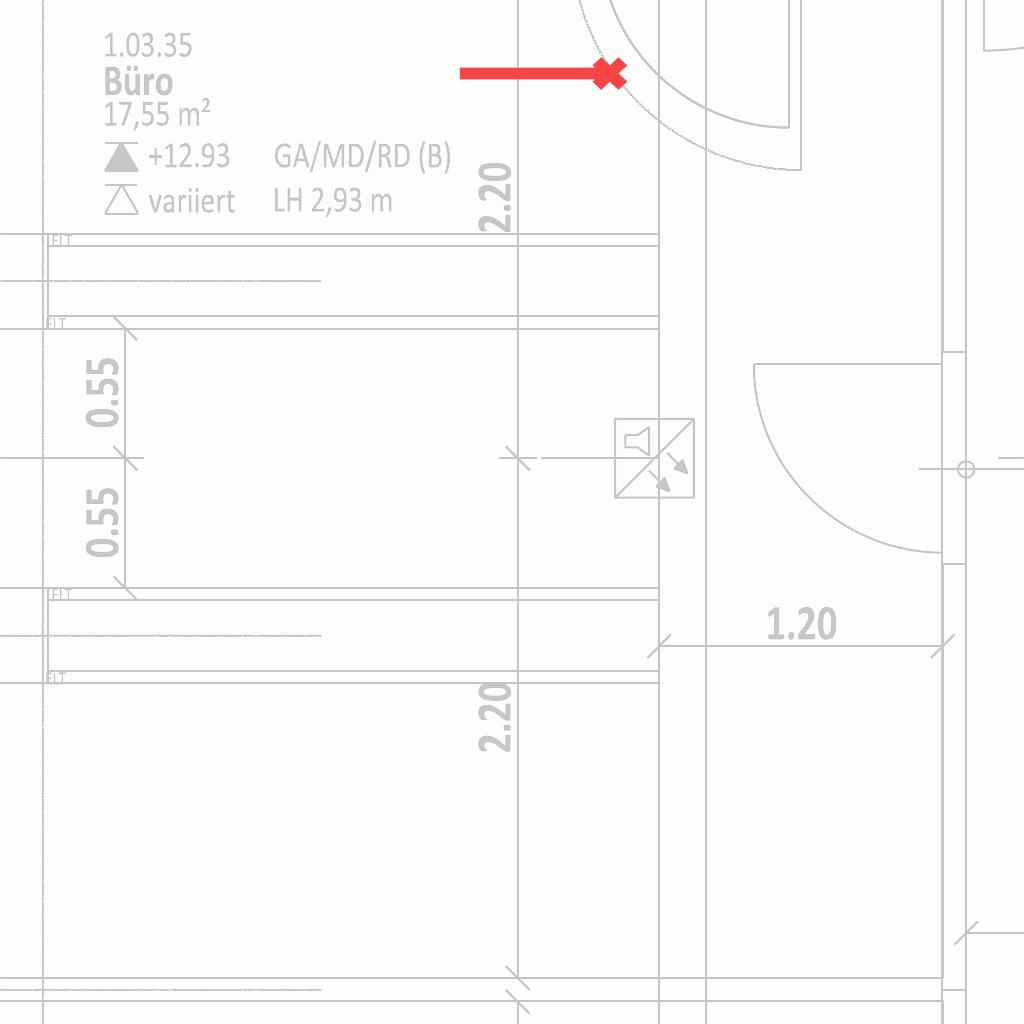ASR_Ansaugoeffnung: (454, 53, 630, 99)
